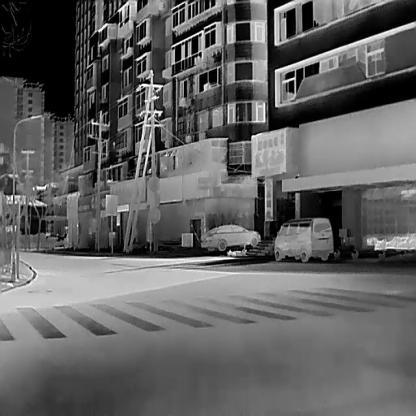car: (275, 216, 335, 261), (200, 223, 260, 250)
